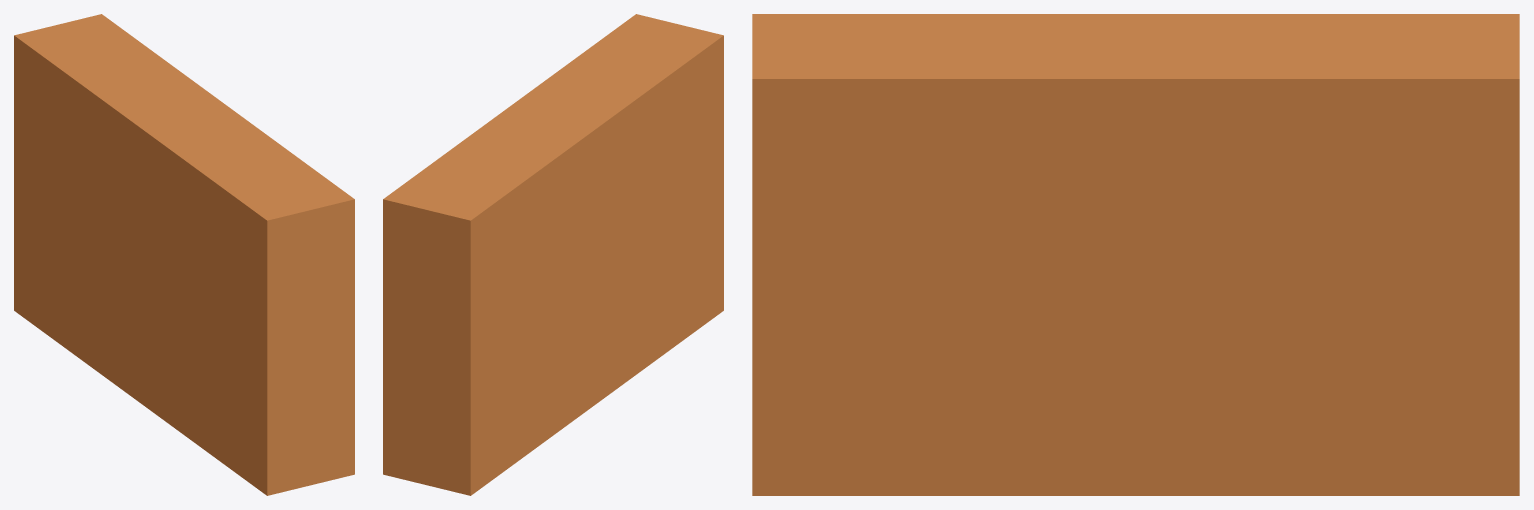
File: Wall.fbx
The picture shows the model from 3 angles, left to right: view 1: azimuth 30°, elevation 25°; view 2: azimuth 150°, elevation 25°; view 3: azimuth 270°, elevation 25°; orthographic projection. The views are drawn at different scales.
Parts seen in each view (by area): view 1: block3, block, block2; view 2: block3, block, block2; view 3: block3, block, block2.
Part boxes in pixels (x1,y1,x2,y2): block3: [14, 14, 354, 312]; block: [14, 219, 354, 495]; block2: [14, 127, 354, 403]; block3: [383, 14, 723, 312]; block: [383, 219, 723, 495]; block2: [383, 127, 723, 403]; block3: [752, 14, 1519, 217]; block: [752, 357, 1519, 495]; block2: [752, 218, 1519, 356].
Bounding box in the file's own units: 100 × 300 × 500.
